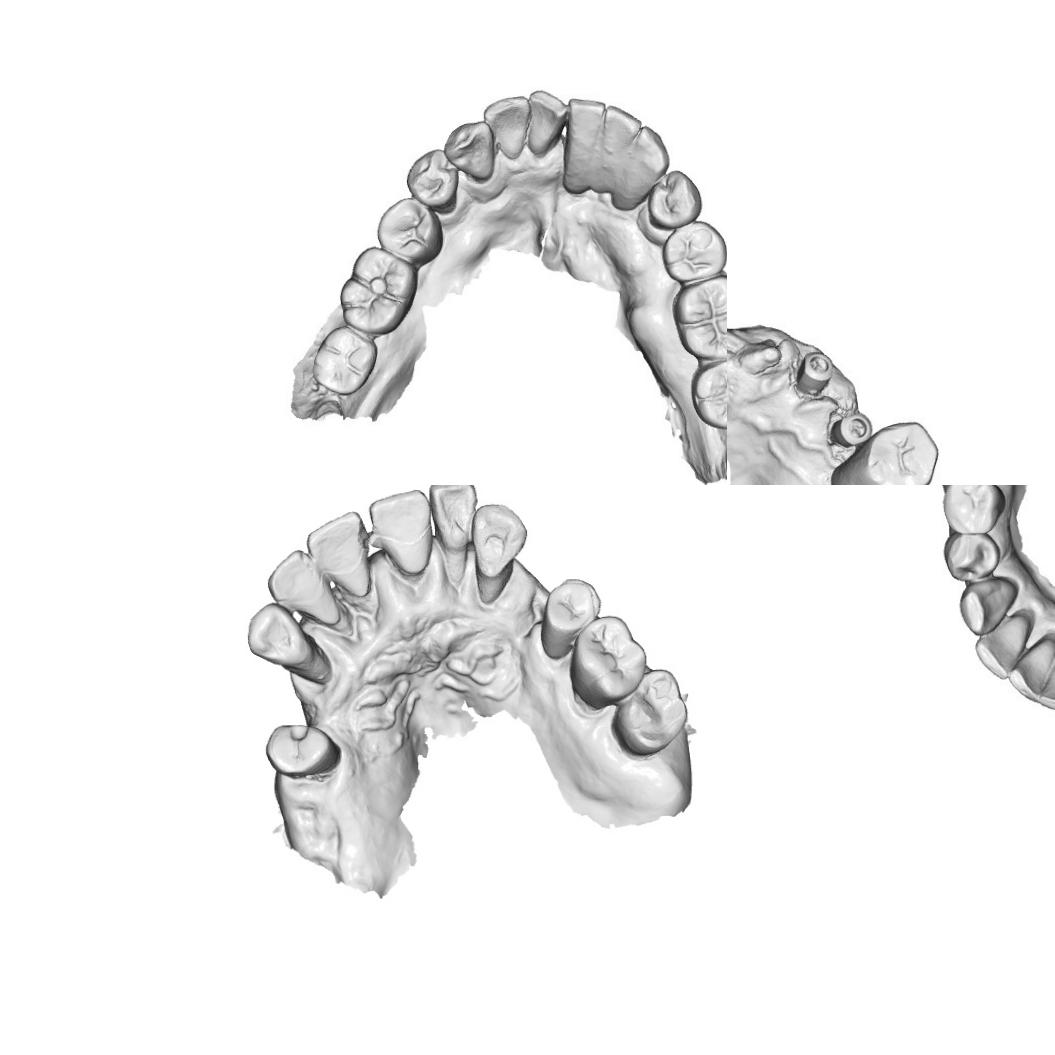canine: (618, 122, 673, 222), (244, 601, 318, 673), (468, 500, 529, 580), (952, 578, 1022, 637), (442, 117, 500, 186)
implant: (795, 354, 838, 394), (830, 410, 873, 446)
incisor: (302, 510, 368, 580), (264, 547, 329, 618), (364, 488, 431, 554), (972, 615, 1032, 683), (1007, 633, 1055, 707), (425, 485, 481, 548), (598, 103, 640, 186), (566, 98, 604, 183), (488, 96, 527, 158), (527, 89, 565, 148), (1039, 646, 1055, 715)
molar: (566, 614, 649, 707), (611, 667, 691, 757), (340, 250, 412, 328), (671, 271, 727, 362), (310, 330, 376, 396), (686, 355, 727, 431)
premolar: (376, 195, 446, 268), (260, 719, 338, 780), (662, 219, 724, 286), (867, 423, 933, 485), (407, 145, 464, 216), (540, 575, 600, 642), (941, 530, 1002, 582), (648, 172, 702, 225), (943, 485, 999, 530)
